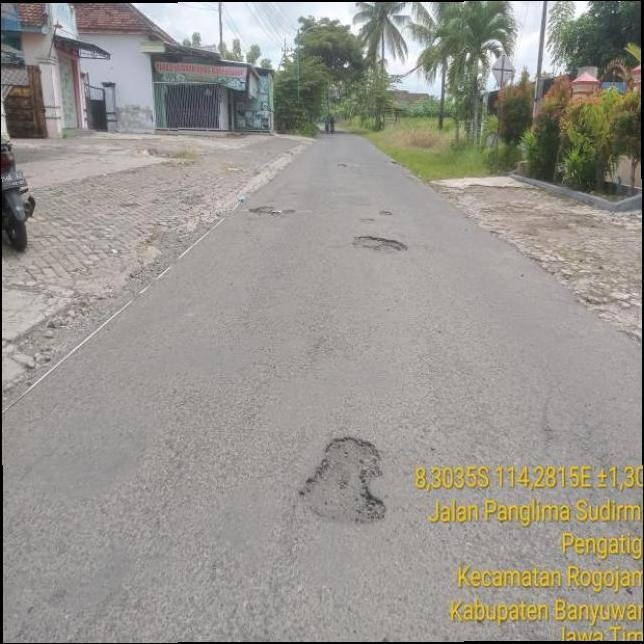Lubang: (300, 437, 391, 525)
